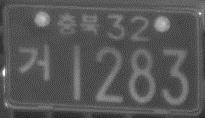1: (62, 44, 88, 99)
2: (94, 46, 123, 103), (130, 14, 150, 41)
3: (161, 47, 190, 106), (107, 14, 125, 40)
8: (128, 47, 156, 103)
거: (15, 42, 50, 80)
충북_O: (57, 11, 99, 36)
